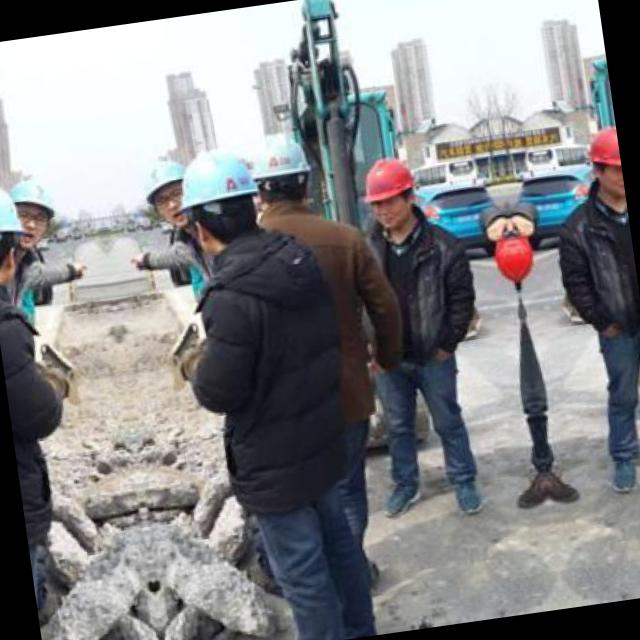helmet: (172, 141, 264, 248), (240, 117, 318, 227), (354, 145, 424, 236), (132, 145, 194, 231), (4, 163, 66, 249), (578, 118, 623, 206), (0, 173, 30, 276)
